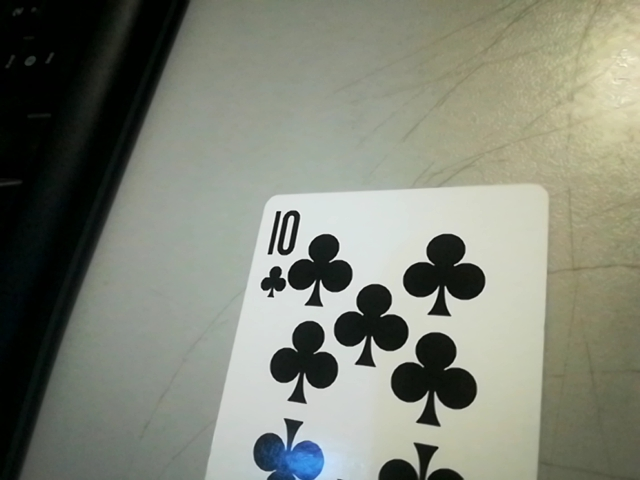mh 10: (249, 201, 300, 297)
